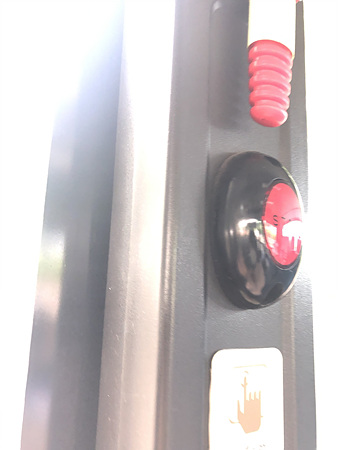bell: (211, 150, 303, 310)
